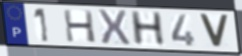1: (33, 7, 51, 43)
4: (169, 13, 197, 47)
H: (128, 10, 168, 47), (61, 9, 98, 44)
V: (197, 12, 231, 50)
X: (96, 8, 133, 46)
